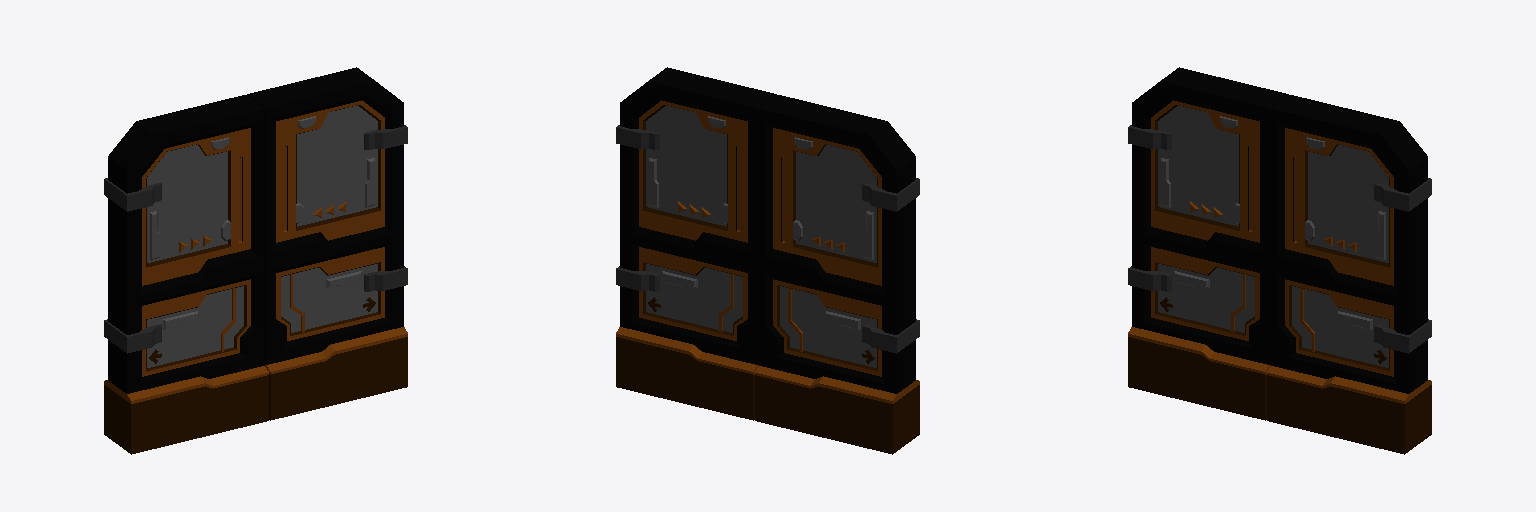
File: Door_Double.obj
3 renders of one model, left to right at view 1: azimuth 30°, elevation 25°; view 2: azimuth 150°, elevation 25°; view 3: azimuth 330°, elevation 25°, orthographic.
Visible parts, largest first — view 1: Door_Double.L_Plane.009, Door_Double.R_Plane.000; view 2: Door_Double.L_Plane.009, Door_Double.R_Plane.000; view 3: Door_Double.R_Plane.000, Door_Double.L_Plane.009.
Boxes of the visible parts, <box> form: Door_Double.L_Plane.009: <box>104,95,268,454</box>; Door_Double.R_Plane.000: <box>247,67,407,420</box>; Door_Double.L_Plane.009: <box>755,95,919,454</box>; Door_Double.R_Plane.000: <box>616,67,776,420</box>; Door_Double.R_Plane.000: <box>1267,95,1431,454</box>; Door_Double.L_Plane.009: <box>1128,67,1288,420</box>.
Bounding box in the file's own units: 2.65 × 2.79 × 0.4542.